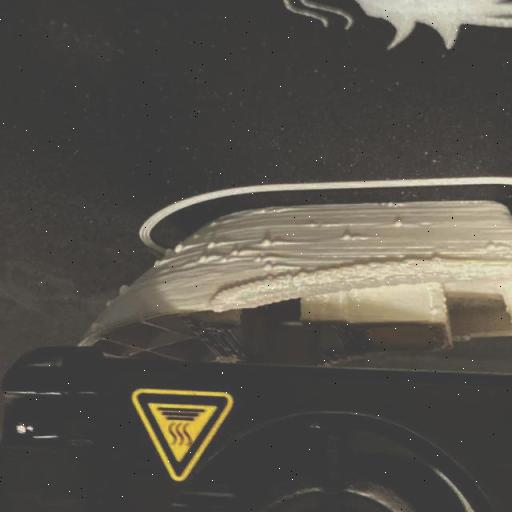blobs: (256, 260, 278, 278), (256, 232, 275, 250), (200, 234, 218, 252), (172, 239, 186, 257), (225, 246, 241, 260), (339, 230, 355, 244), (387, 218, 403, 232), (118, 282, 130, 300), (150, 257, 163, 270), (195, 254, 208, 266)
